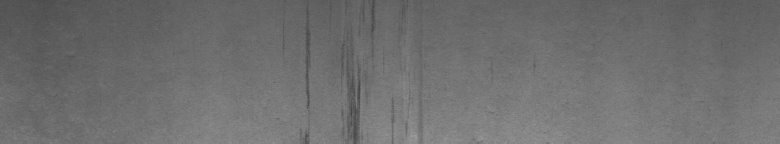ka: (300, 4, 423, 136)
